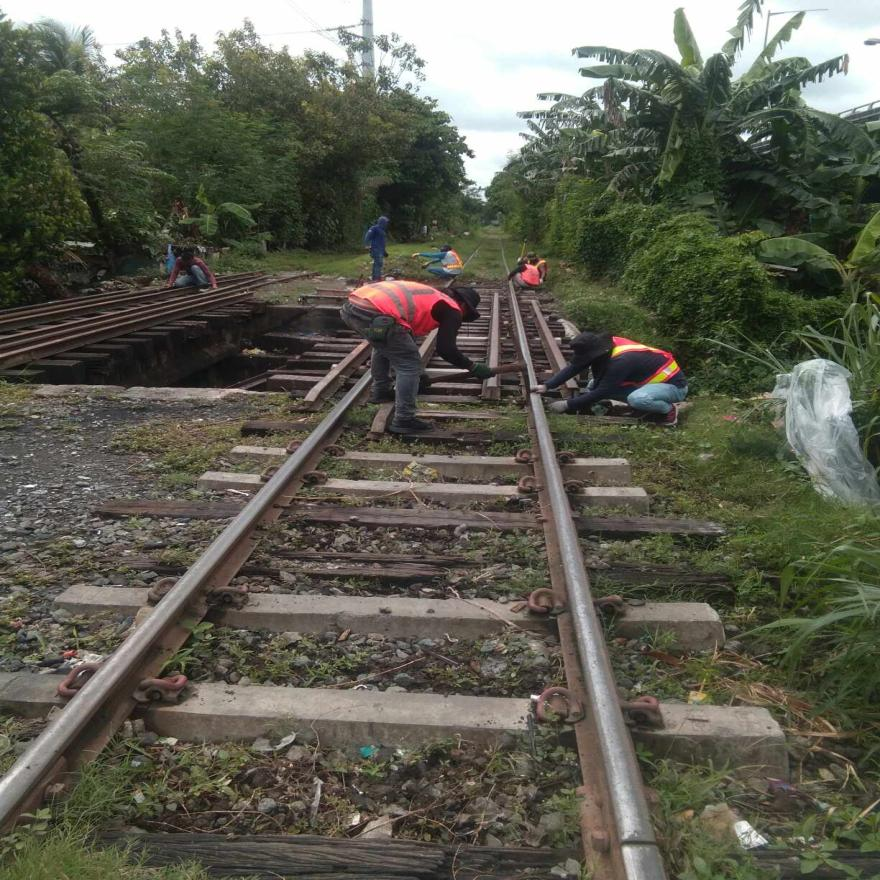railway-gap: (576, 783, 698, 880)
